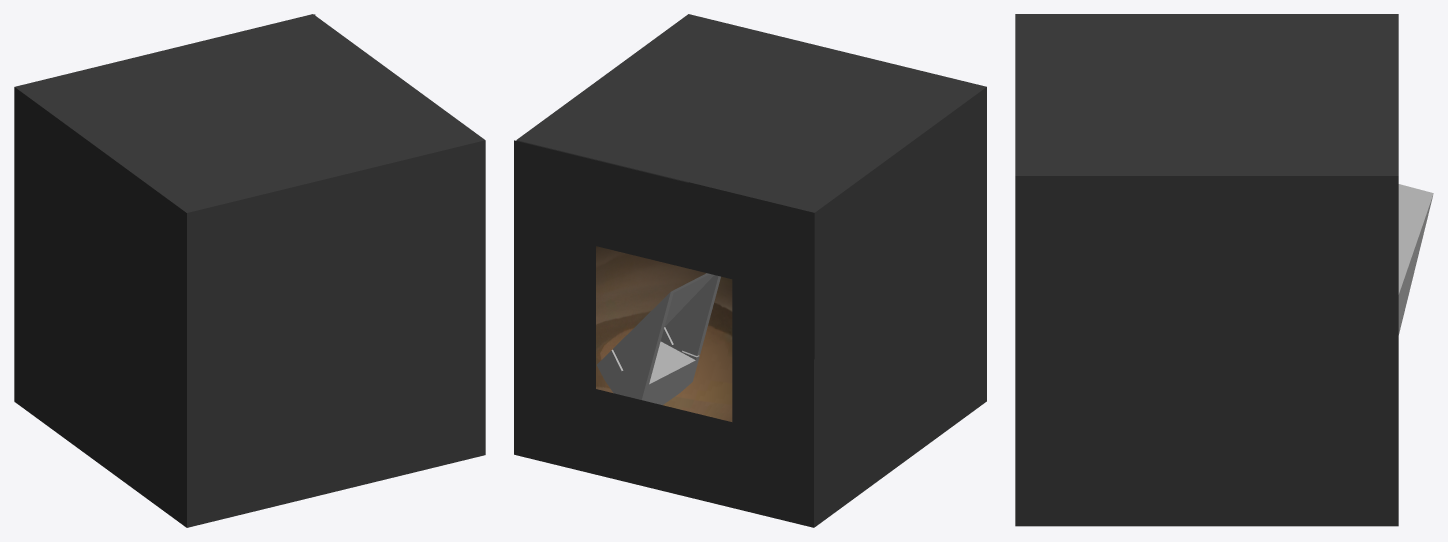
Rendered from BoxMask_Desert.fbx.
3 views of the same model, side by side, from view 1: azimuth 30°, elevation 25°; view 2: azimuth 150°, elevation 25°; view 3: azimuth 270°, elevation 25° (orthographic). The views are drawn at different scales.
Parts seen in each view (by area): view 1: Cube.001; view 2: Cube.001, pCube2; view 3: Cube.001, pCube2.
Boxes of the visible parts, x1,y1,x2,y2 form: Cube.001: (14, 14, 485, 527); Cube.001: (514, 14, 986, 527); pCube2: (597, 273, 720, 405); Cube.001: (1015, 14, 1398, 526); pCube2: (1398, 184, 1433, 334).
Bounding box in the file's own units: 274 × 275 × 297.
